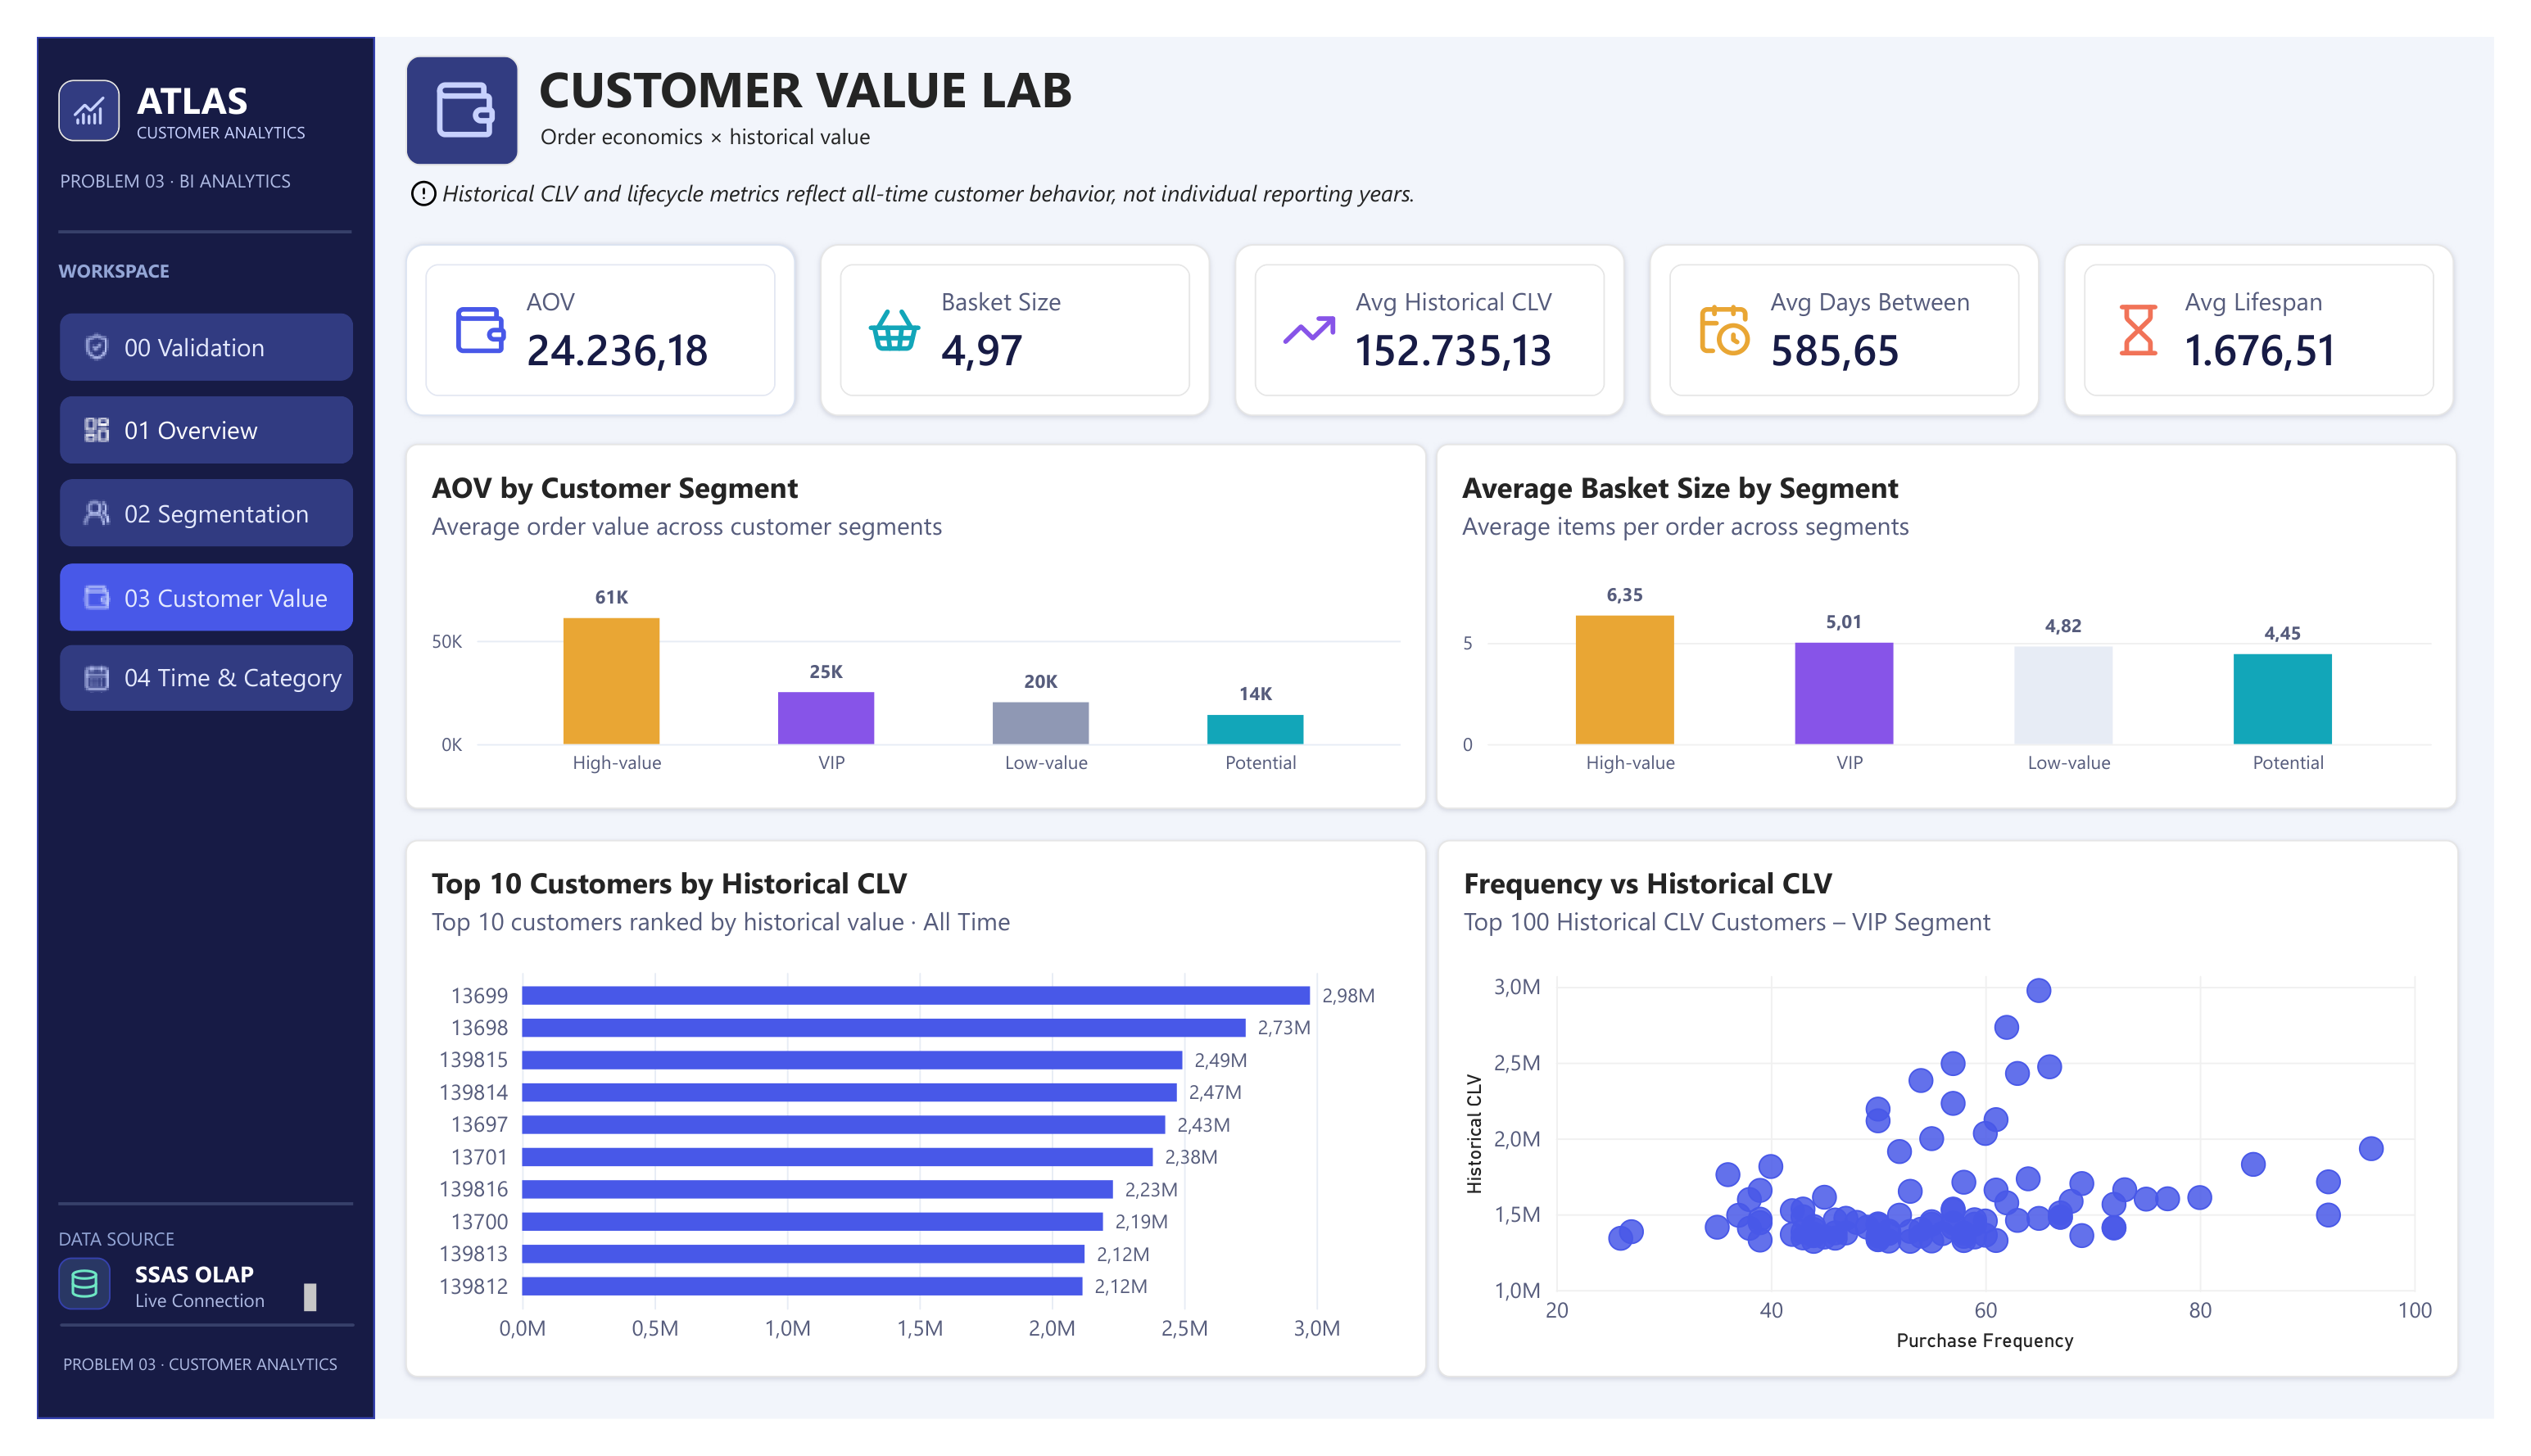

The page's visual inventory and layout, read from the dashboard file:
{"tool":"powerbi","page":{"name":"03_Customer_Value","canvas":[1600,900],"ordinal":3},"visuals":[{"type":"shape","box":[0,0,220,900],"z":0,"group":"g1"},{"type":"image","box":[238.3,93.1,26.7,18.3],"z":0,"group":"g2"},{"type":"cardVisual","fields":{"Data":["V FACT CUSTOMER MONTHLY OFFICIAL.AOV"]},"box":[240,135,254,112],"z":0},{"type":"textbox","box":[65.5,24.3,134.3,32],"z":1000,"group":"g1"},{"type":"textbox","box":[264.5,91.2,816.7,28.3],"z":1000,"group":"g2"},{"type":"cardVisual","fields":{"Data":["Measures.Basket Size"]},"box":[510,135,254,112],"z":1000},{"type":"cardVisual","fields":{"Data":["Measures.Average Historical CLV"]},"box":[780,135,254,112],"z":2000},{"type":"actionButton","box":[15.1,180,190.9,44.1],"z":2000,"group":"g1"},{"type":"cardVisual","fields":{"Data":["Measures.Average Days Between Orders"]},"box":[1050,135,254,112],"z":3000},{"type":"actionButton","box":[14.7,395.7,191.7,42.9],"z":3000,"group":"g1"},{"type":"cardVisual","fields":{"Data":["Measures.Average Customer Lifespan Days"]},"box":[1320,135,254,112],"z":4000},{"type":"actionButton","box":[15.1,288.3,190.9,44.1],"z":4000,"group":"g1"},{"type":"clusteredColumnChart","title":"AOV by Customer Segment","fields":{"Category":["Customer.Customer Segment"],"Y":["V FACT CUSTOMER MONTHLY OFFICIAL.AOV"]},"box":[240,265,665,238.3],"z":5000},{"type":"actionButton","box":[15.1,342.5,190.9,44.1],"z":5000,"group":"g1"},{"type":"actionButton","box":[15.1,234.2,190.9,44.1],"z":6000,"group":"g1"},{"type":"clusteredColumnChart","title":"Average Basket Size by Segment","fields":{"Category":["Customer.Customer Segment"],"Y":["Measures.Basket Size"]},"box":[911,265,665,238],"z":6000},{"type":"shape","box":[14.3,28,40,40],"z":7000,"group":"g1"},{"type":"clusteredBarChart","title":"Top 10 Customers by Historical CLV","fields":{"Category":["Customer.Customer"],"Y":["V FACT CUSTOMER ANALYTICS.Historical CLV"]},"box":[240,523.3,665,350],"z":7000},{"type":"image","box":[23.3,37,22,22],"z":8000,"group":"g1"},{"type":"scatterChart","title":"Frequency vs Historical CLV","fields":{"Category":["Customer.Customer"],"Series":["Customer.Customer Segment"],"X":["Measures.Average Frequency"],"Y":["V FACT CUSTOMER ANALYTICS.Historical CLV"]},"box":[911.7,523.3,665,350],"z":8000},{"type":"group","id":"g1","title":"Group 1","box":[0,0,220,900],"z":9000},{"type":"textbox","box":[64.6,51.4,135,21.4],"z":9000,"group":"g1"},{"type":"textbox","box":[326.7,11.5,710,53.3],"z":10000,"group":"g3"},{"type":"textbox","box":[14.7,82.7,191.8,22.7],"z":10000,"group":"g1"},{"type":"group","id":"g2","title":"Group 4","box":[238.3,91.2,842.9,28.3],"z":10000},{"type":"group","id":"g3","title":"Group 2","box":[240,11.5,824,72.7],"z":11000},{"type":"textbox","box":[328,55.2,736,22],"z":11000,"group":"g3"},{"type":"shape","box":[14.3,120,190.9,13.6],"z":11000,"group":"g1"},{"type":"shape","box":[240,12.2,74,72],"z":12000,"group":"g3"},{"type":"textbox","box":[14.3,142,186,20],"z":12000,"group":"g1"},{"type":"image","box":[254.8,26.6,46,43],"z":13000,"group":"g3"},{"type":"shape","box":[14.3,750,192,20],"z":13000,"group":"g1"},{"type":"textbox","box":[14.3,772,170,20],"z":14000,"group":"g1"},{"type":"shape","box":[14.3,795,34,34],"z":15000,"group":"g1"},{"type":"image","box":[21.3,802,20,20],"z":16000,"group":"g1"},{"type":"textbox","box":[63.9,795,120,26.7],"z":17000,"group":"g1"},{"type":"textbox","box":[63.9,811.7,118.3,18.3],"z":18000,"group":"g1"},{"type":"shape","box":[15,833.3,191.7,11.7],"z":19000,"group":"g1"},{"type":"textbox","box":[16.7,853.3,190,20],"z":20000,"group":"g1"}]}

Visuals, with their boxes on the page's 1600x900 design canvas (x1, y1, x2, y2). These are canvas units, not pixel positions in the 2531x1456 screenshot, which may show the page scaled, cropped or inside an application window:
shape: [0,0,220,900]
image: [238,93,265,111]
cardVisual - V FACT CUSTOMER MONTHLY OFFICIAL.AOV: [240,135,494,247]
textbox: [66,24,200,56]
textbox: [264,91,1081,120]
cardVisual - Measures.Basket Size: [510,135,764,247]
cardVisual - Measures.Average Historical CLV: [780,135,1034,247]
actionButton: [15,180,206,224]
cardVisual - Measures.Average Days Between Orders: [1050,135,1304,247]
actionButton: [15,396,206,439]
cardVisual - Measures.Average Customer Lifespan Days: [1320,135,1574,247]
actionButton: [15,288,206,332]
"AOV by Customer Segment" clusteredColumnChart: [240,265,905,503]
actionButton: [15,342,206,387]
actionButton: [15,234,206,278]
"Average Basket Size by Segment" clusteredColumnChart: [911,265,1576,503]
shape: [14,28,54,68]
"Top 10 Customers by Historical CLV" clusteredBarChart: [240,523,905,873]
image: [23,37,45,59]
"Frequency vs Historical CLV" scatterChart: [912,523,1577,873]
"Group 1" group: [0,0,220,900]
textbox: [65,51,200,73]
textbox: [327,12,1037,65]
textbox: [15,83,206,105]
"Group 4" group: [238,91,1081,120]
"Group 2" group: [240,12,1064,84]
textbox: [328,55,1064,77]
shape: [14,120,205,134]
shape: [240,12,314,84]
textbox: [14,142,200,162]
image: [255,27,301,70]
shape: [14,750,206,770]
textbox: [14,772,184,792]
shape: [14,795,48,829]
image: [21,802,41,822]
textbox: [64,795,184,822]
textbox: [64,812,182,830]
shape: [15,833,207,845]
textbox: [17,853,207,873]
